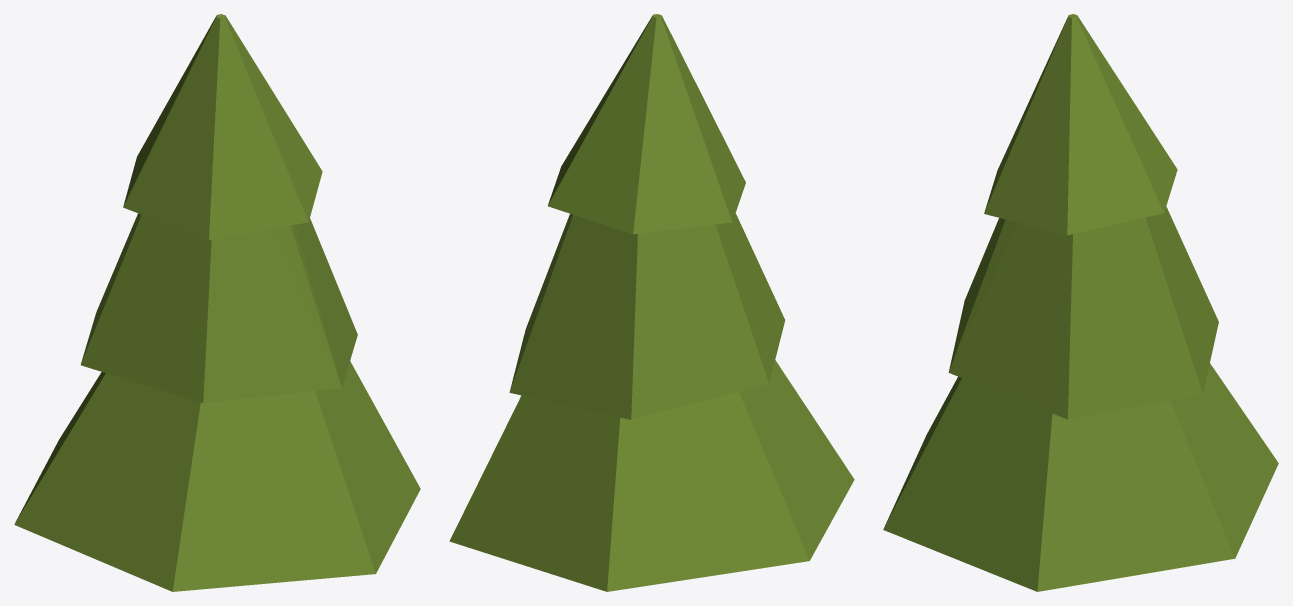
File: tree.glb
3 renders of one model, left to right at view 1: azimuth 30°, elevation 25°; view 2: azimuth 150°, elevation 25°; view 3: azimuth 270°, elevation 25°, orthographic. The views are drawn at different scales.
Parts seen in each view (by area): view 1: Buffer Layer; view 2: Buffer Layer; view 3: Buffer Layer.
Part boxes in pixels (x1,y1,x2,y2): Buffer Layer: (14, 14, 420, 591); Buffer Layer: (449, 14, 854, 591); Buffer Layer: (883, 14, 1278, 591).
Size of the model in its own units: 0.0151 by 0.0205 by 0.0147.
